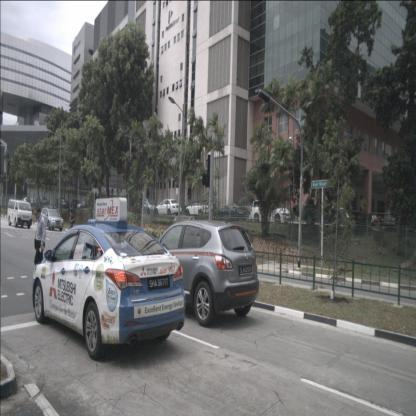human-pedestrian-adult: (34, 206, 46, 285), (69, 209, 75, 241)
vehicle-car: (32, 222, 186, 361), (140, 218, 260, 327), (302, 198, 340, 225), (251, 199, 290, 224), (7, 199, 33, 229), (39, 207, 64, 232), (216, 202, 247, 222), (155, 200, 182, 216), (186, 200, 209, 217), (357, 212, 378, 230), (134, 199, 157, 214), (55, 197, 70, 209), (77, 200, 92, 209), (20, 197, 36, 205), (27, 196, 38, 206), (37, 196, 48, 206), (70, 199, 79, 208)
